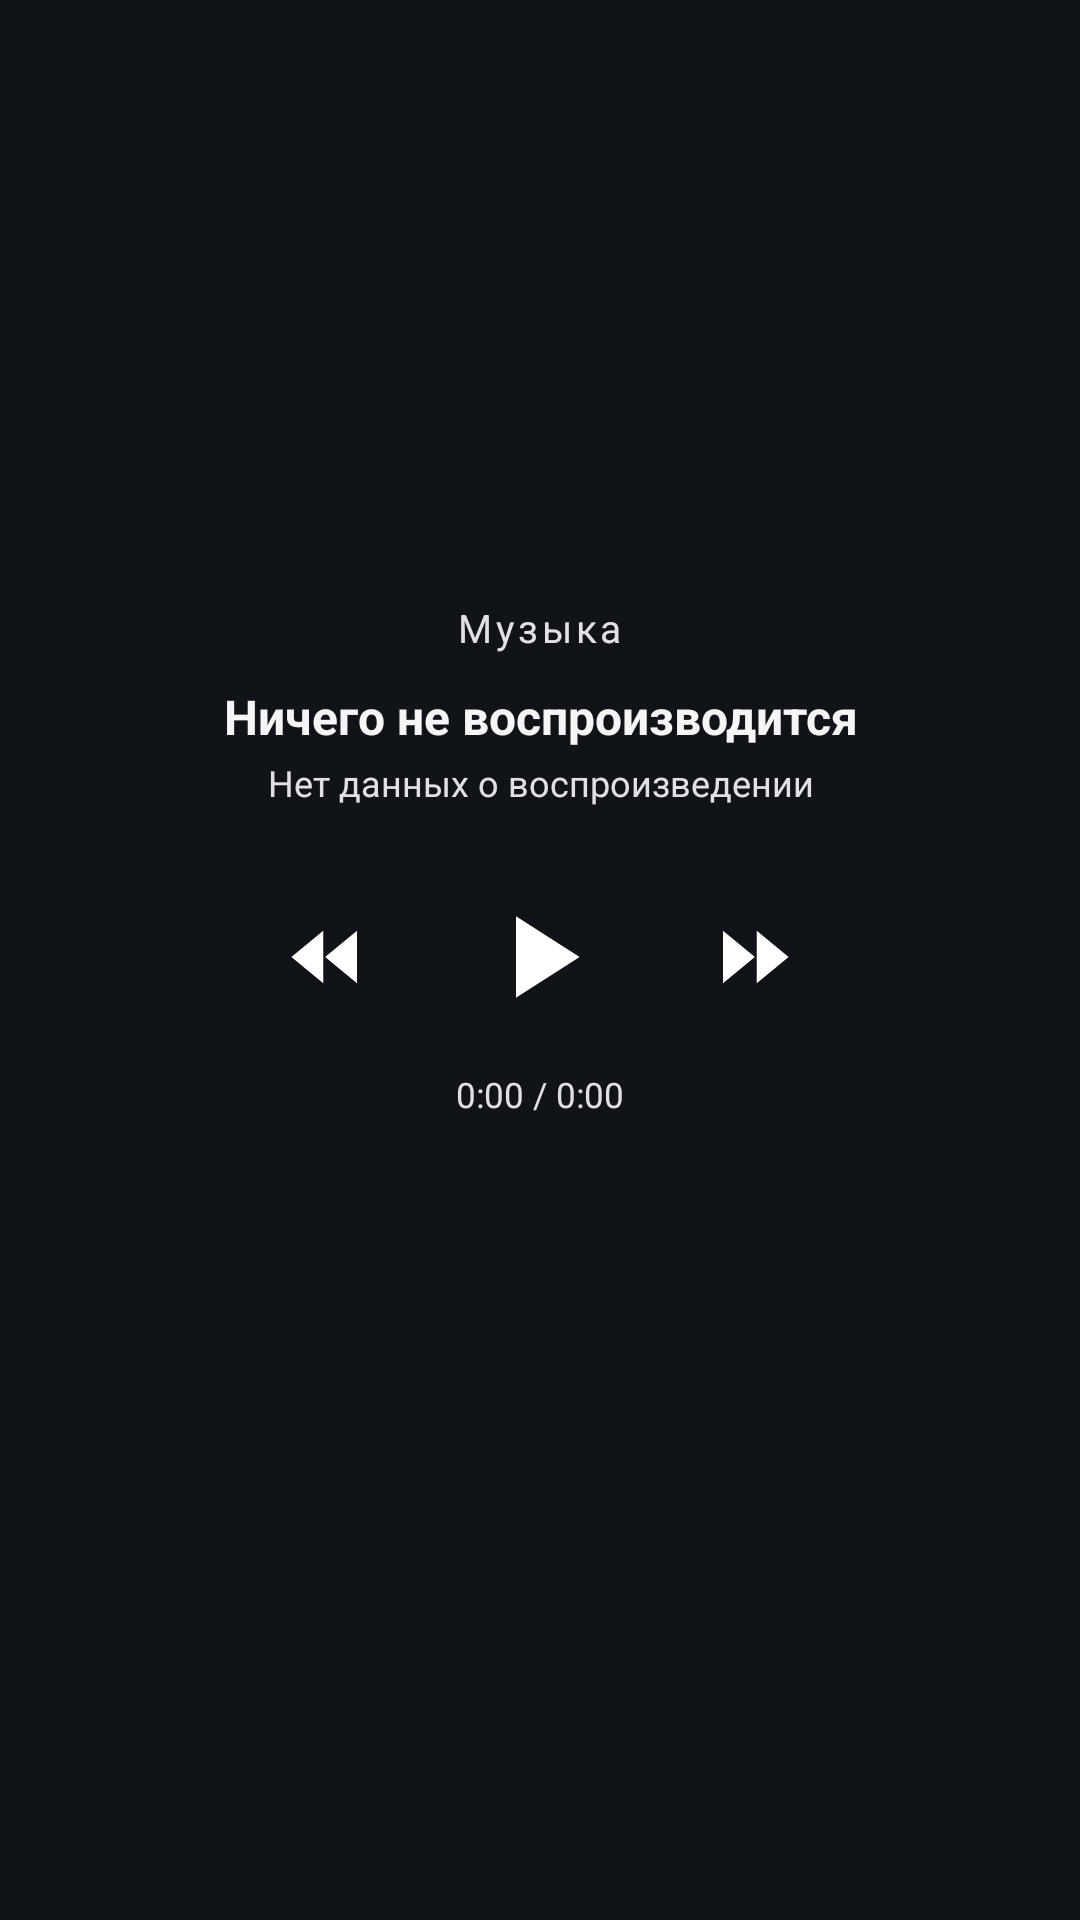

Icons on this 1080*1920 Android screen, each with the point to tap as (x,y):
next: (756,957)
play: (548,957)
prev: (324,957)
